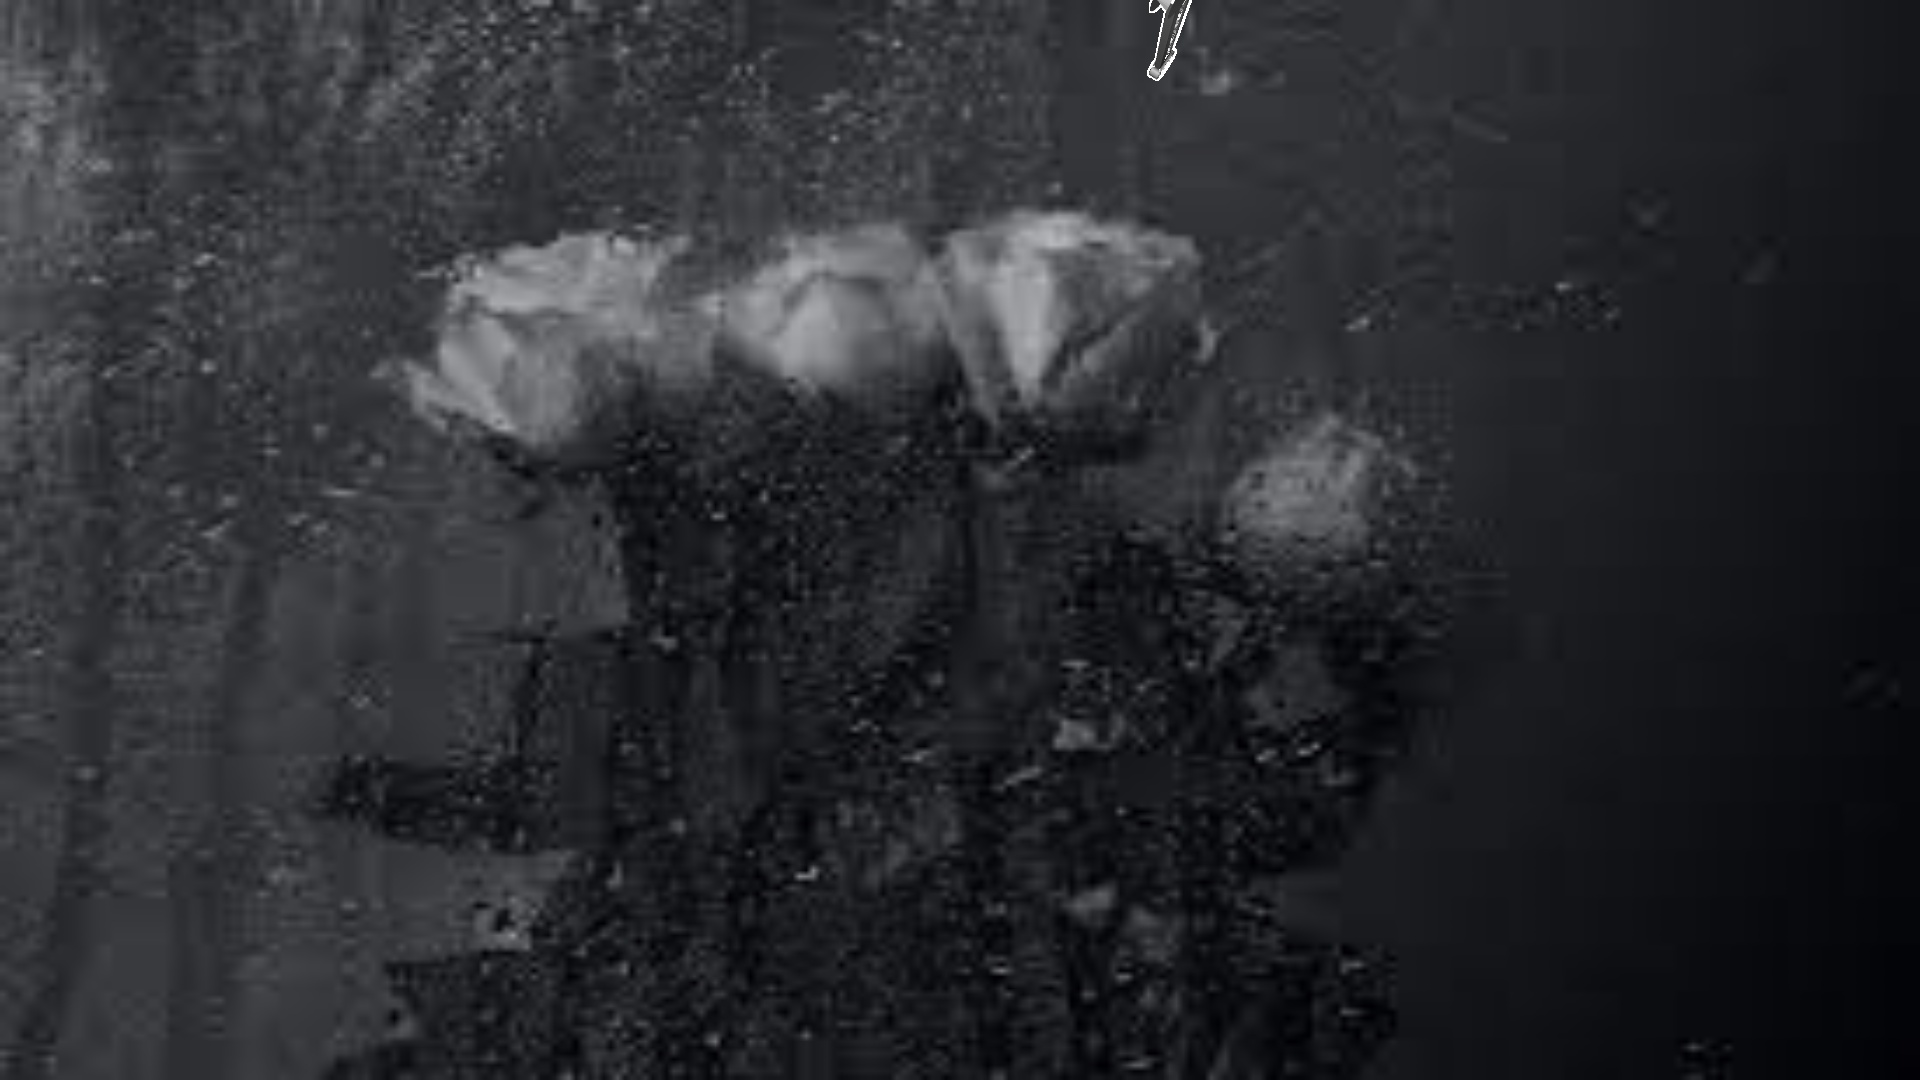Mixed Key: (1147, 0, 1191, 80)
